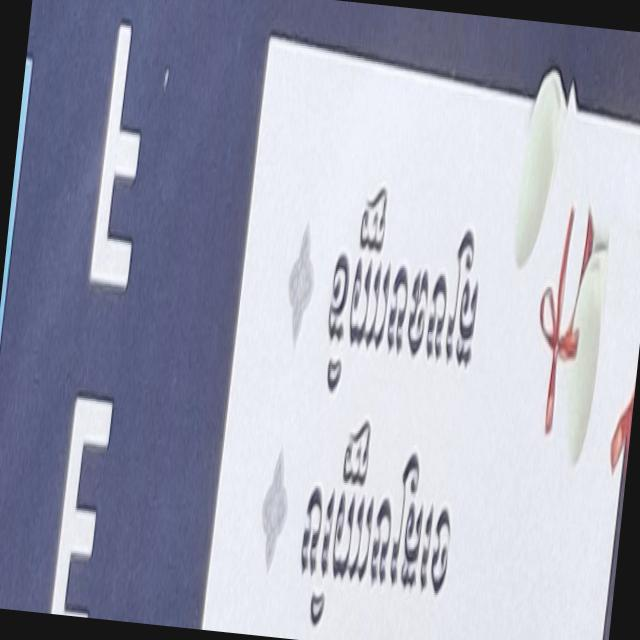Yolov11_80vkh: (280, 150, 514, 418), (274, 397, 482, 640)
